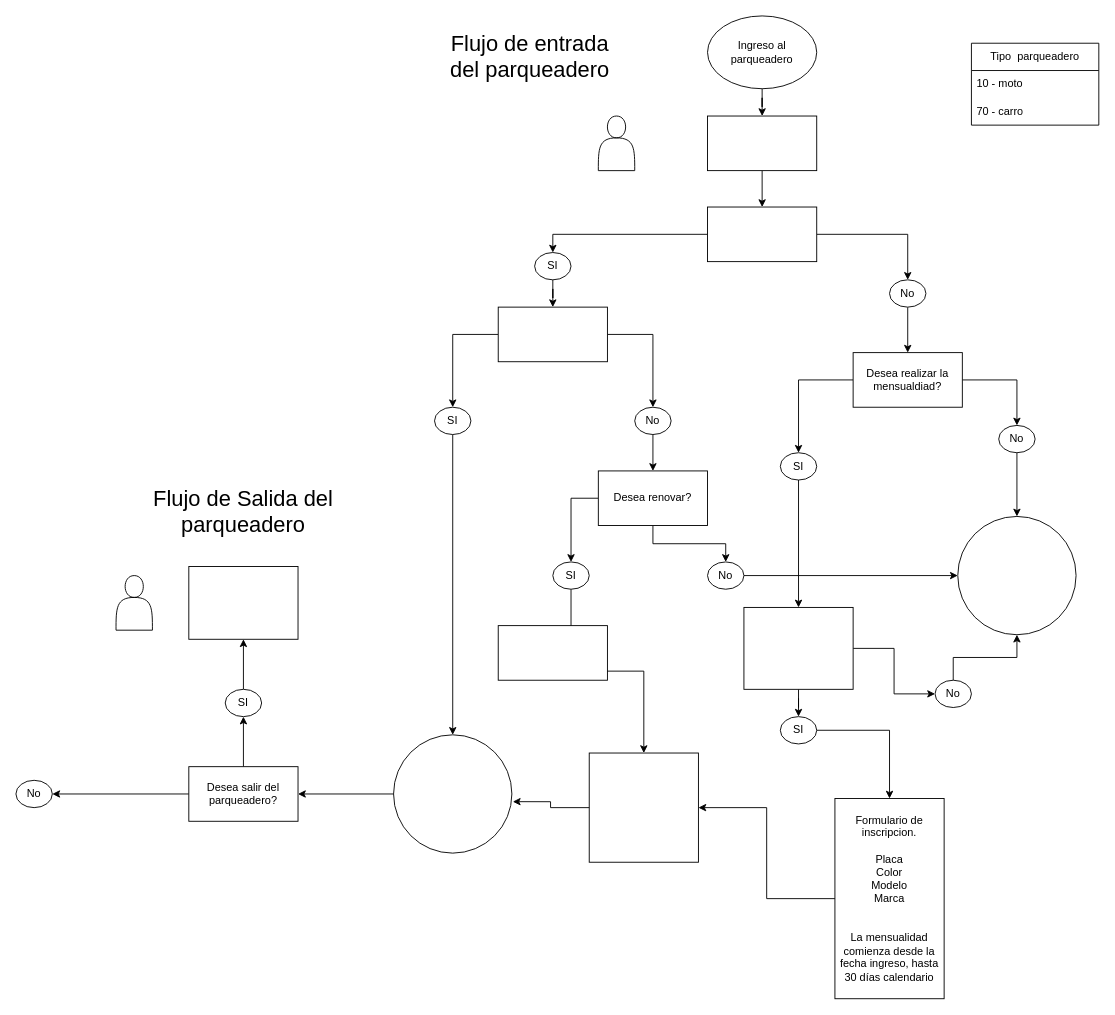
Some shapes in this 1115 by 1015 pixel diagram are drawn without their labels. The shapes that lost their labels are listed below. From the top down, each one's centre as x and y in pixels, then its label:
At pixel 762 143: "Placa".
At pixel 762 234: "Tiene mensualidad?".
At pixel 552 334: "Esta vigente?".
At pixel 1016 575: "No se le permite el ingreso".
At pixel 243 602: "Libera la celda y se pasa al listado de celdas disponibles".
At pixel 552 652: "dfd".
At pixel 798 648: "Hay celdas y/o tipo de parqueadero disponible apra el vehiculo?".
At pixel 452 793: "Se permite el ingreso a la celda disponible.".
At pixel 643 807: "Realiza el pago correspondiente y se asigna: Fecha ingreso".
